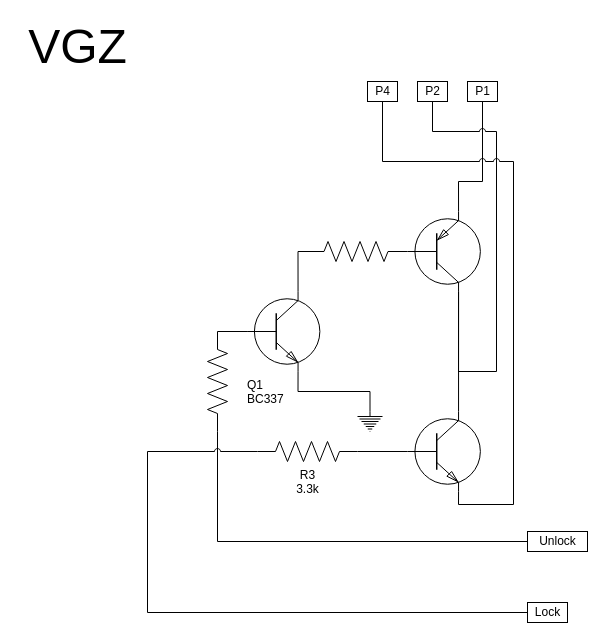
The diagram is 605 pixels wide and 640 high, and some of its shapes have lost their labels. Here are the shapes that lost their labels. From the top down, the centre of each, then its label:
At [355,251]: "R1 3.3k".
At [443,251]: "Q2 BC556".
At [217,381]: "R2 3.3k".
At [443,451]: "Q3 BC337".
